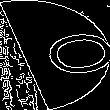O_W: (8, 27, 102, 83)
